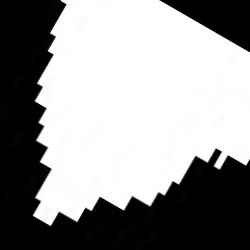spot: (34, 1, 249, 224)
